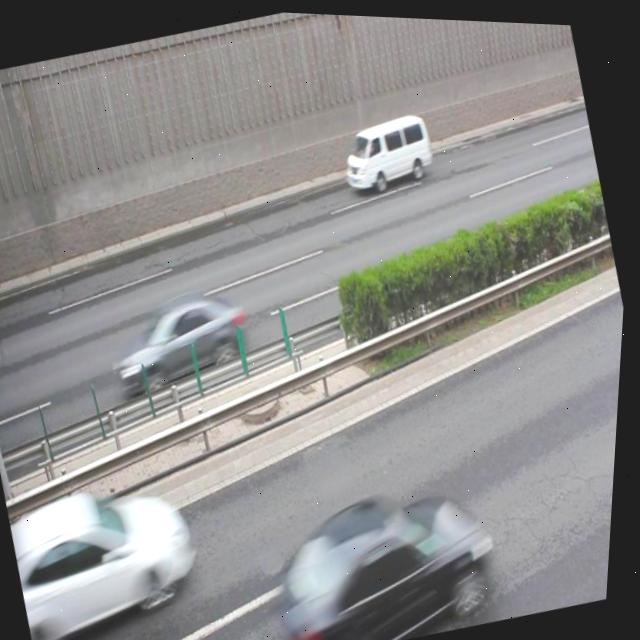car: (266, 465, 513, 640), (7, 467, 218, 640), (108, 283, 261, 399)
truck: (338, 107, 437, 193)
